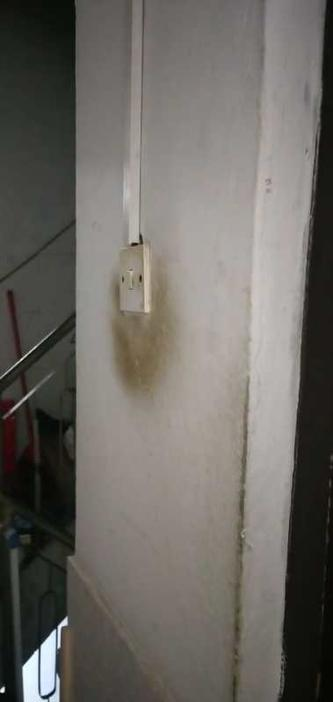switch: (122, 271, 144, 294)
